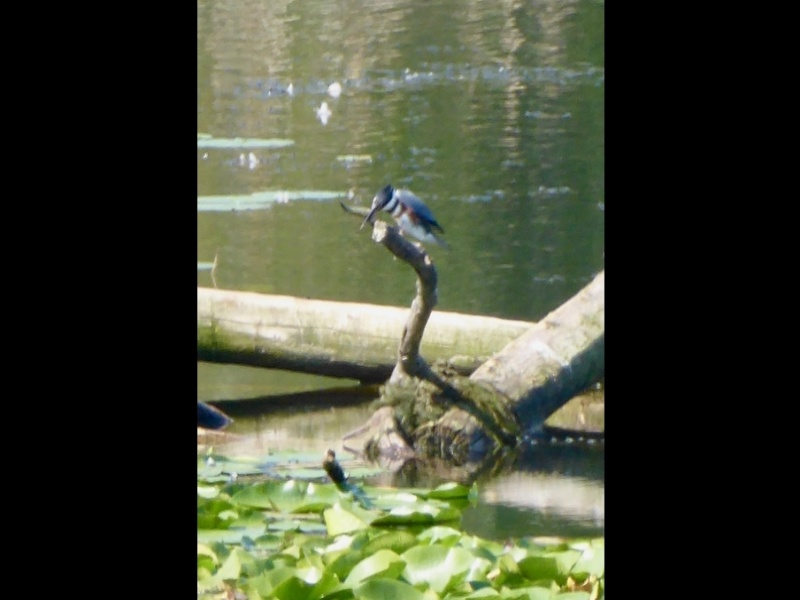kingfisher: (364, 181, 443, 257)
